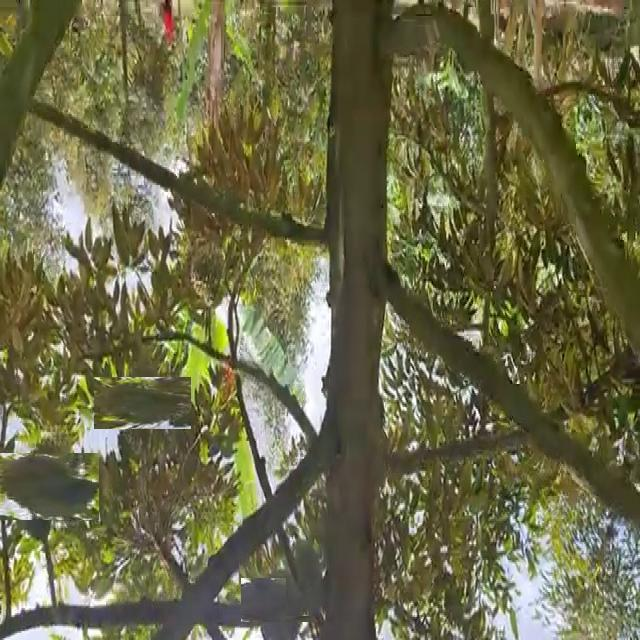durian: (0, 443, 89, 532), (105, 366, 180, 441), (286, 526, 326, 616), (248, 570, 308, 629), (187, 236, 230, 314)
